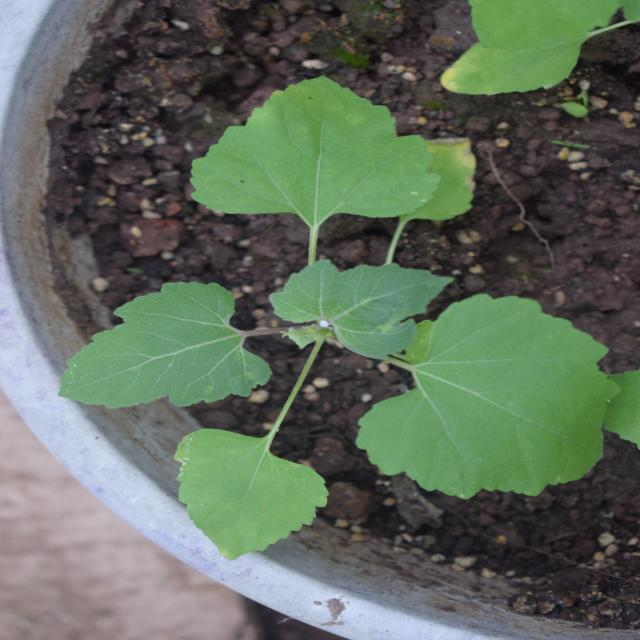cocklebur: (84, 71, 564, 556)
